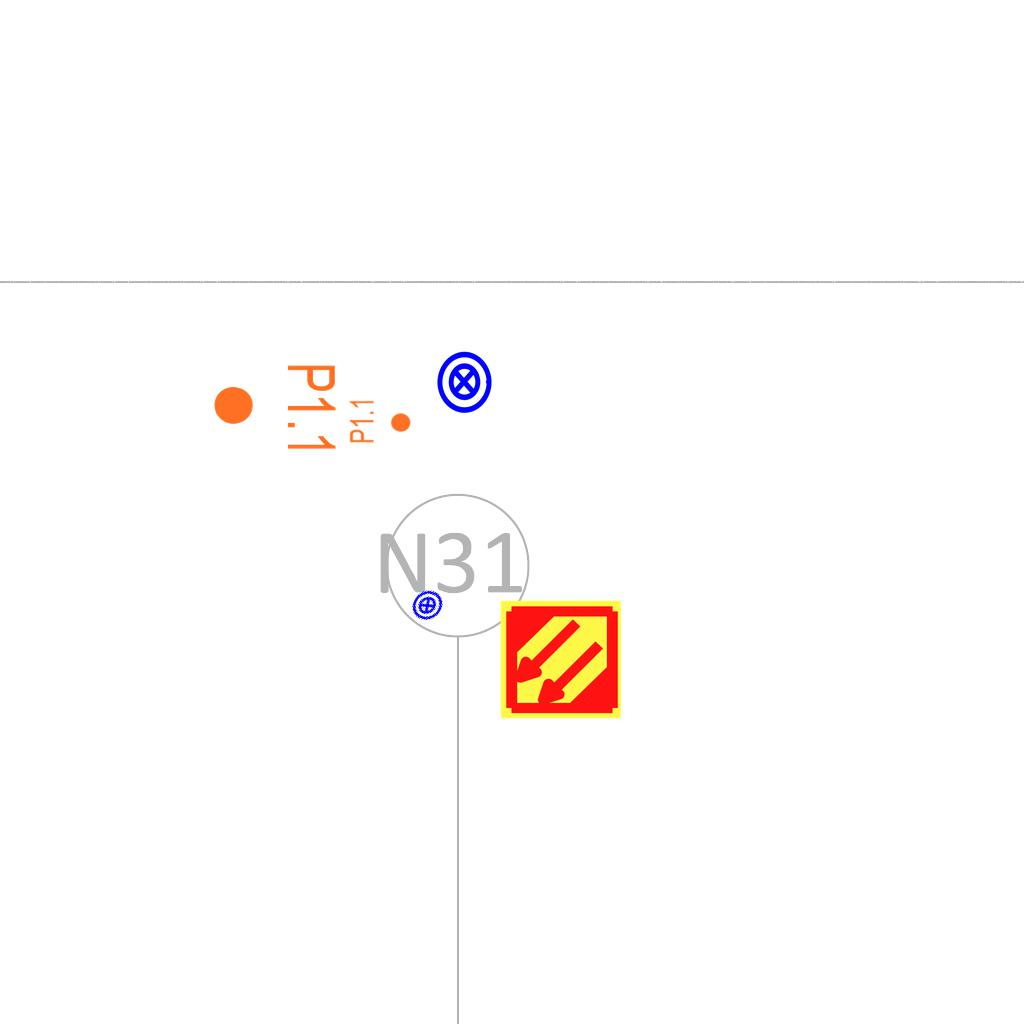ASR_Ansaugrauchmelder: (498, 597, 623, 722)
Downlight_LED_Einbauleuchten_Flur: (211, 362, 339, 455), (348, 398, 412, 444)
Taster_beleuchtet: (431, 349, 497, 415), (404, 582, 451, 629)
